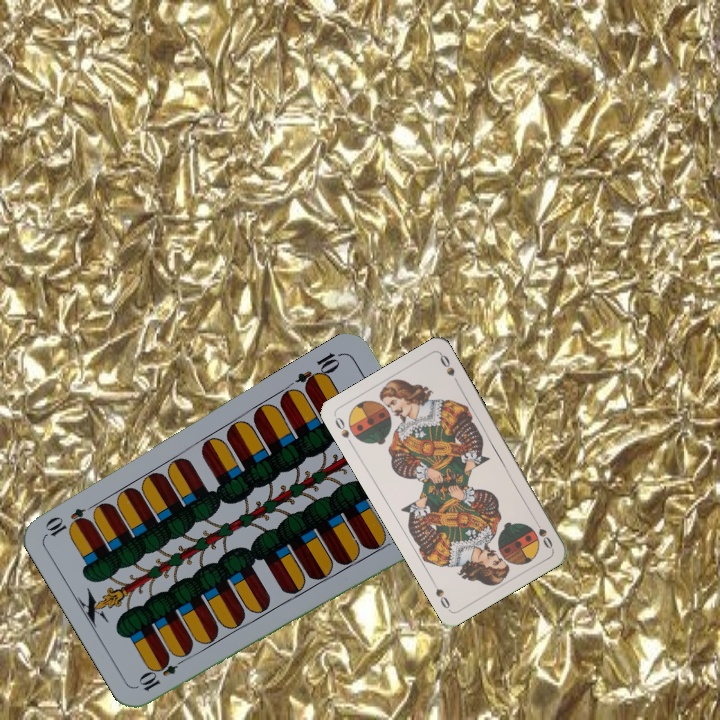E10: (292, 348, 345, 393), (135, 652, 190, 694)
SO: (530, 514, 555, 551), (331, 413, 356, 450)
